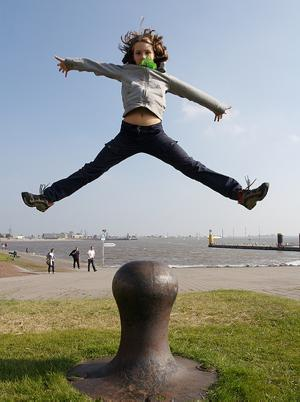person: (22, 26, 270, 218)
